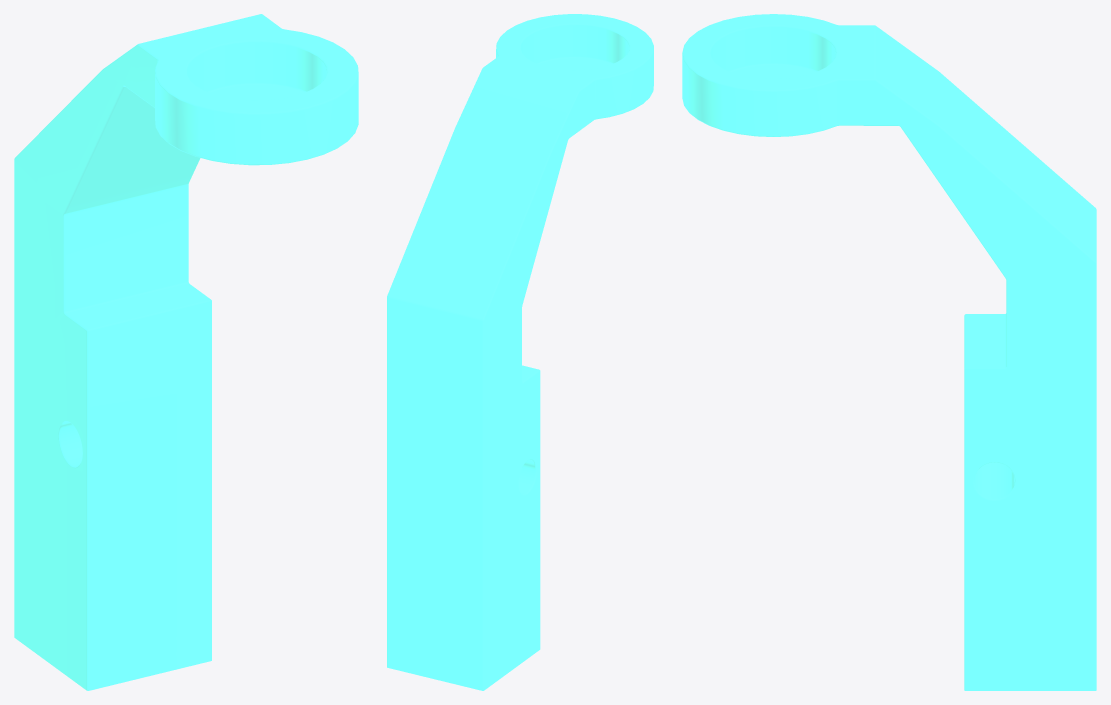
Rendered from harm.gltf.
3 renders of one model, left to right at view 1: azimuth 30°, elevation 25°; view 2: azimuth 150°, elevation 25°; view 3: azimuth 270°, elevation 25°, orthographic. The views are drawn at different scales.
Parts seen in each view (by area): view 1: base2; view 2: base2; view 3: base2.
Boxes of the visible parts, x1,y1,x2,y2 form: base2: [14, 14, 358, 690]; base2: [387, 14, 653, 690]; base2: [682, 14, 1096, 690].
Bounding box in the file's own units: 0.0565 × 0.2087 × 0.1282.
